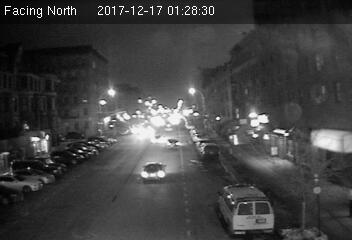car: (140, 161, 168, 183), (164, 138, 182, 152)
police: (214, 181, 273, 234)
